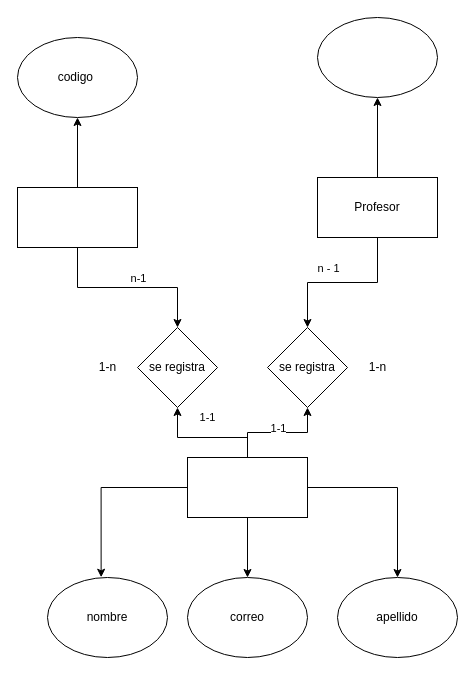
Some shapes in this 475 by 675 pixel diagram are drawn without their labels. Here are the shapes that lost their labels. From the top down, the centre of each, then its label:
At [377,57]: "numero contrato".
At [77,217]: "Estudiante".
At [247,487]: "Persona".
